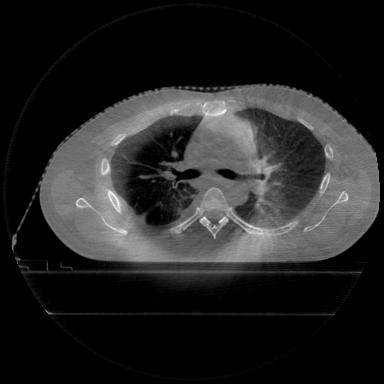body: (40, 85, 379, 262)
cord: (170, 188, 298, 239)
paru kanan: (112, 116, 201, 225)
paru kiri: (237, 108, 325, 220)
